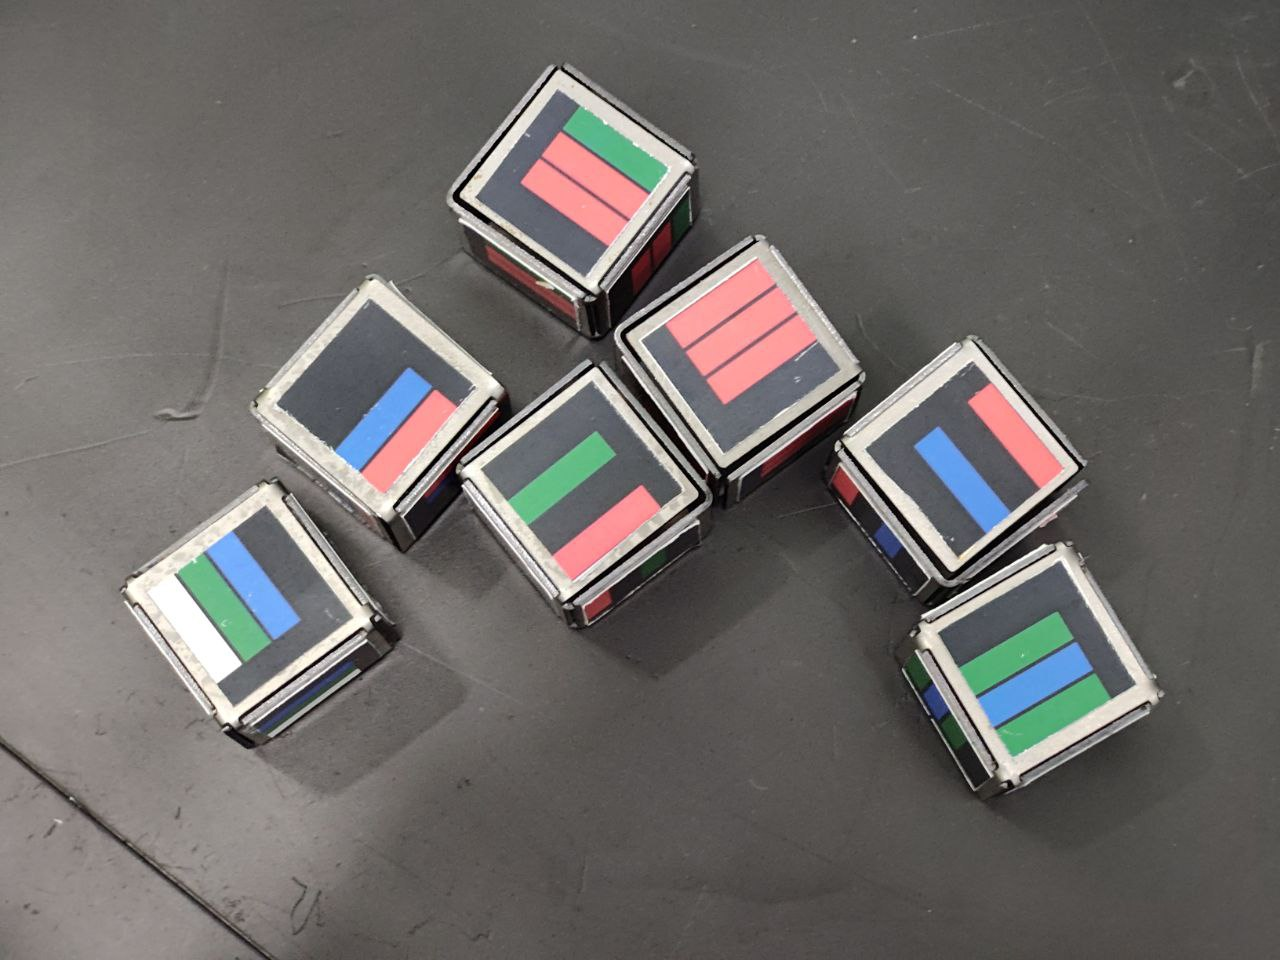Cube: (420, 326, 747, 659), (222, 225, 541, 562), (98, 466, 411, 773), (869, 519, 1194, 812), (582, 216, 889, 505), (817, 311, 1112, 600), (440, 51, 708, 301)
